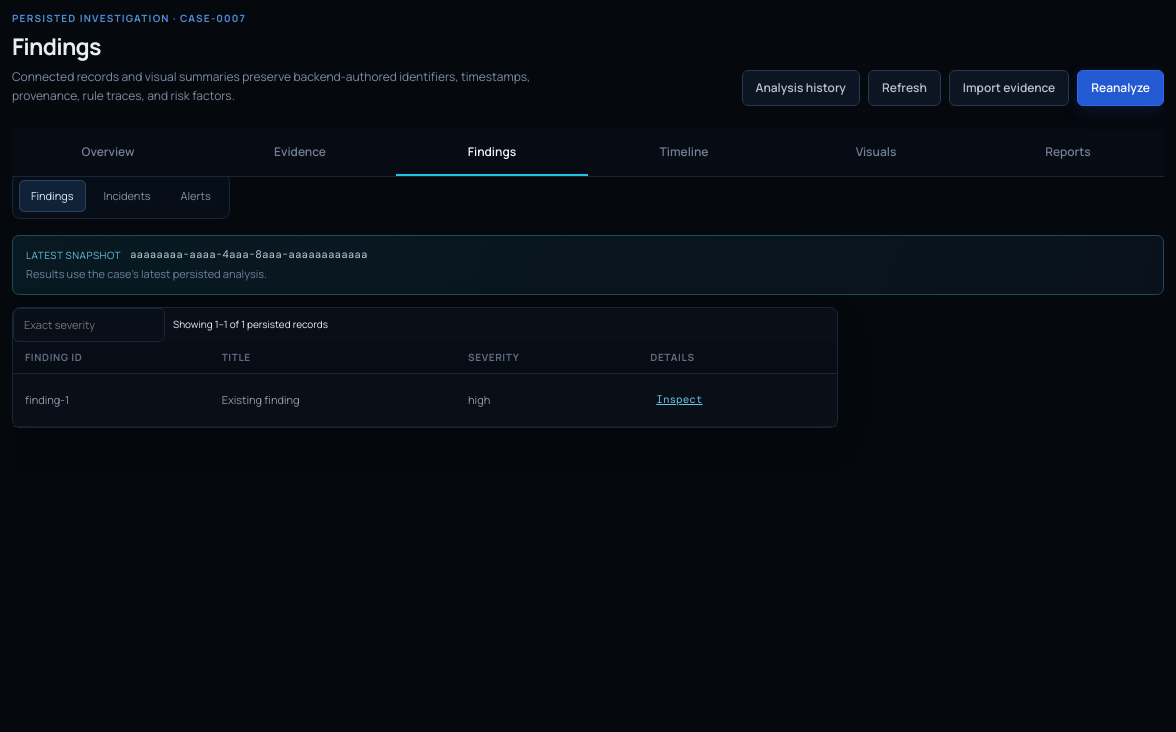
Test: ConnectedCaseWorkspaceV3Page › handles a created reanalysis on the exact Findings route
Expected: the text "Existing finding" is shown, 210,374 -> 456,426
Click the button "Reanalyze" at (1121, 88), box 1077,70 -> 1164,106
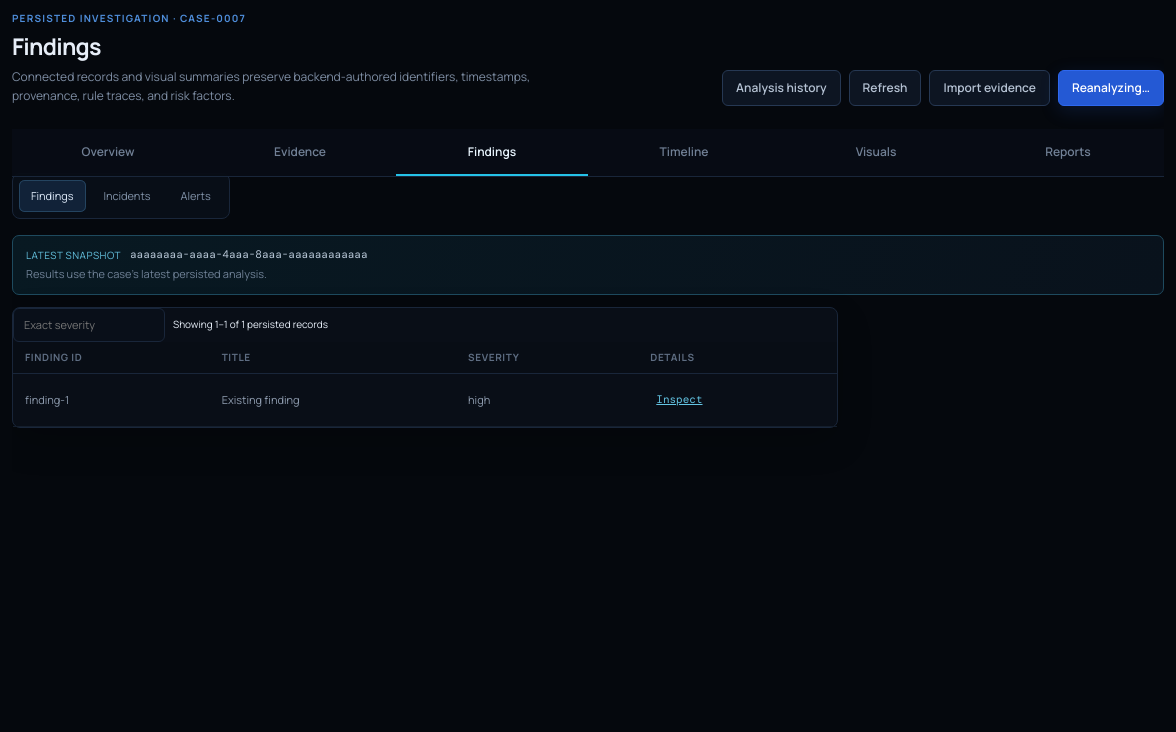
Click the button named "Reanalyze" at (1111, 88), box 1058,70 -> 1164,106
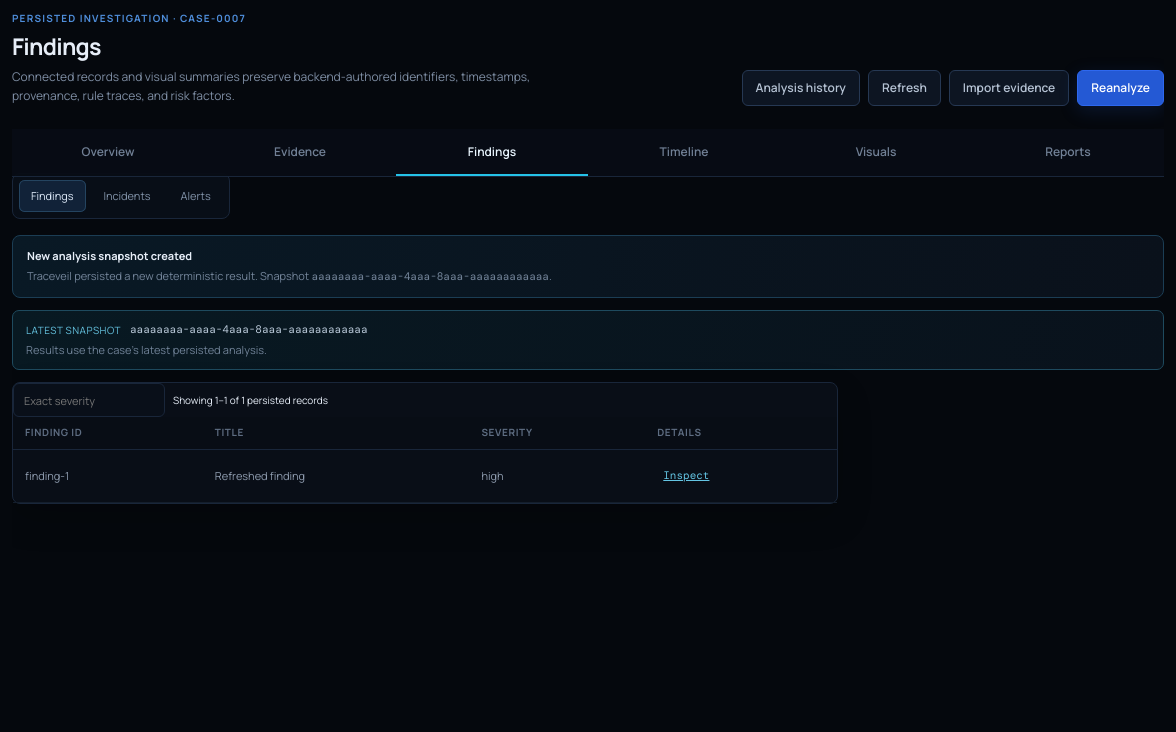
Result: the text "New analysis snapshot created" is shown at 27,248 -> 192,262
Result: the text "Refreshed finding" is shown at 203,449 -> 469,502
Result: the button "Reanalyze" is enabled at 1077,70 -> 1164,106
